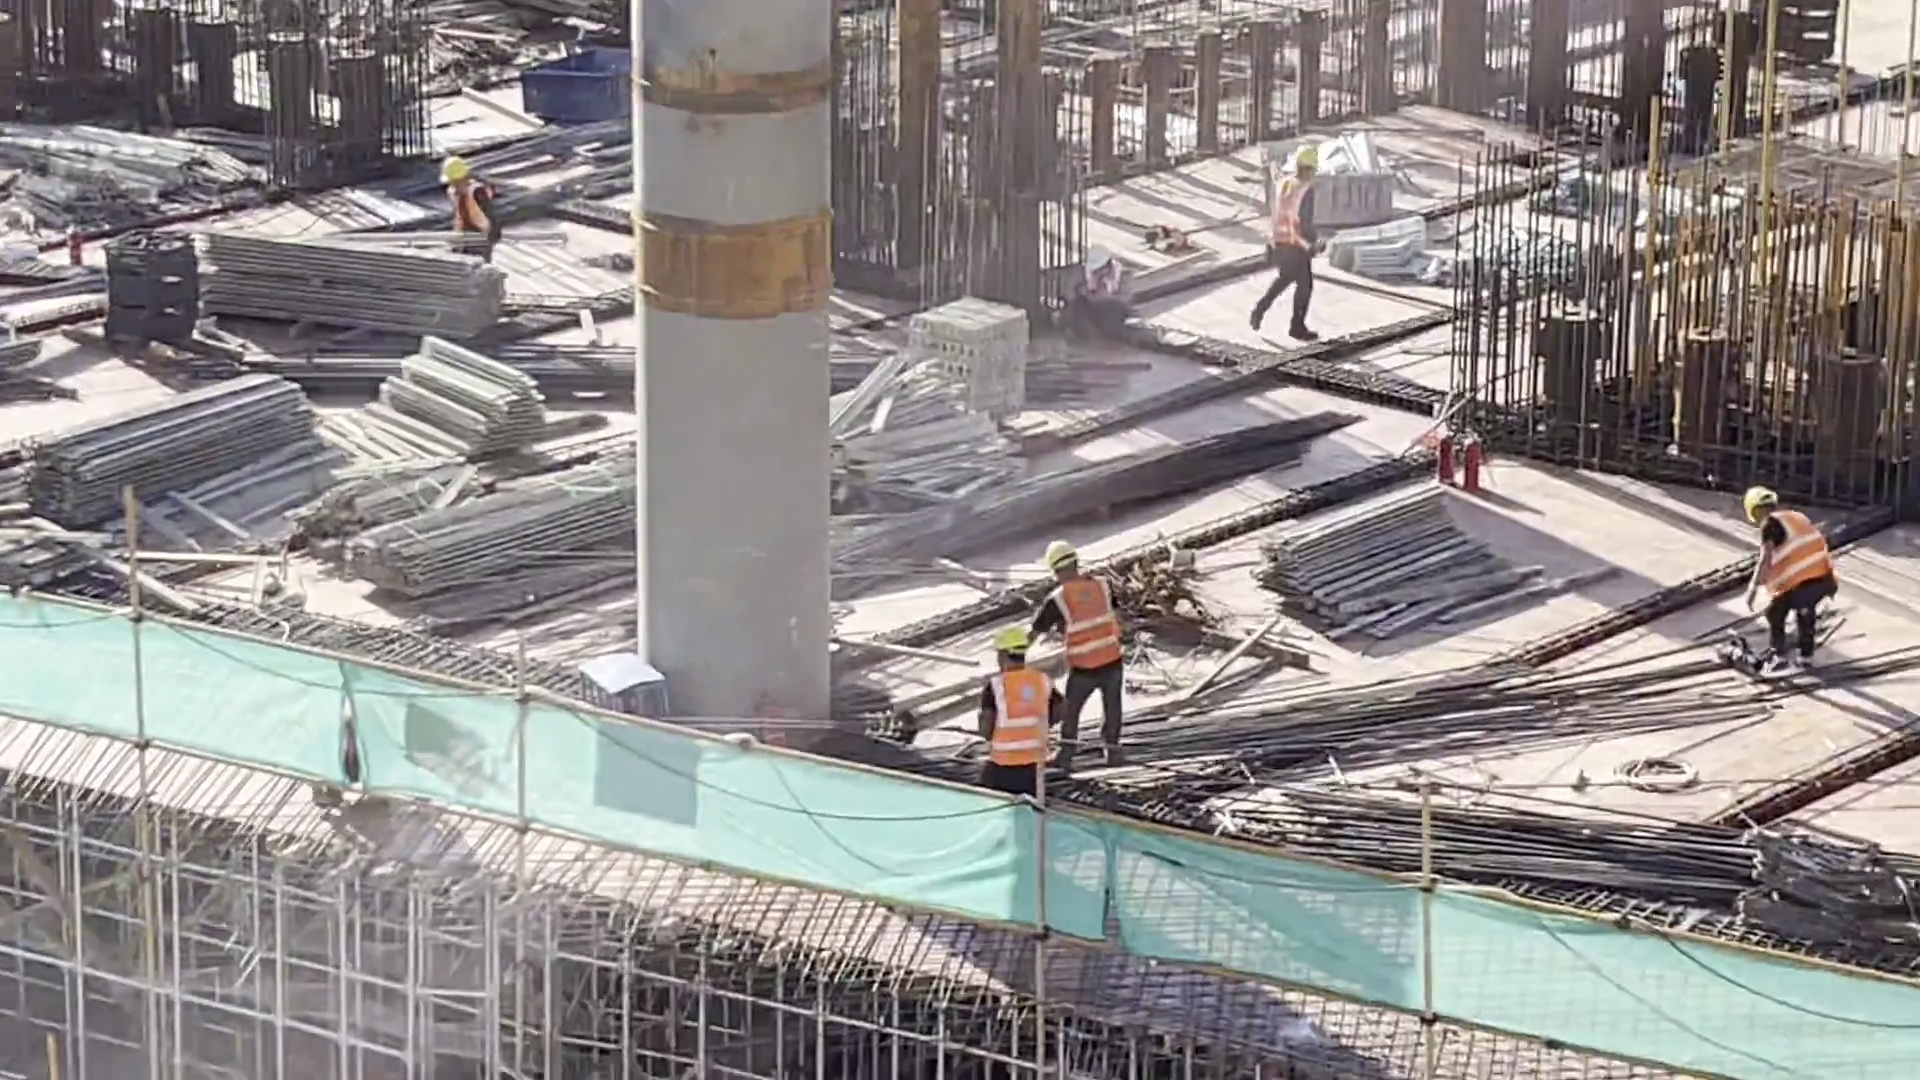helmet: (988, 612, 1023, 660), (1078, 238, 1118, 276), (1041, 528, 1071, 571), (1738, 475, 1769, 515), (430, 153, 469, 182), (1295, 137, 1322, 169)
hopper: (506, 26, 636, 127), (1296, 124, 1410, 222)
person: (1026, 519, 1140, 749), (1721, 491, 1847, 665), (1271, 132, 1343, 337), (981, 635, 1069, 795), (421, 148, 511, 285), (1070, 245, 1141, 339)
vest: (1048, 575, 1115, 664), (989, 661, 1044, 764), (1763, 509, 1819, 600), (1266, 169, 1310, 256), (438, 172, 496, 231)
wood: (186, 211, 506, 364), (19, 375, 314, 519), (364, 457, 645, 601), (1255, 474, 1486, 639), (375, 330, 551, 465)
